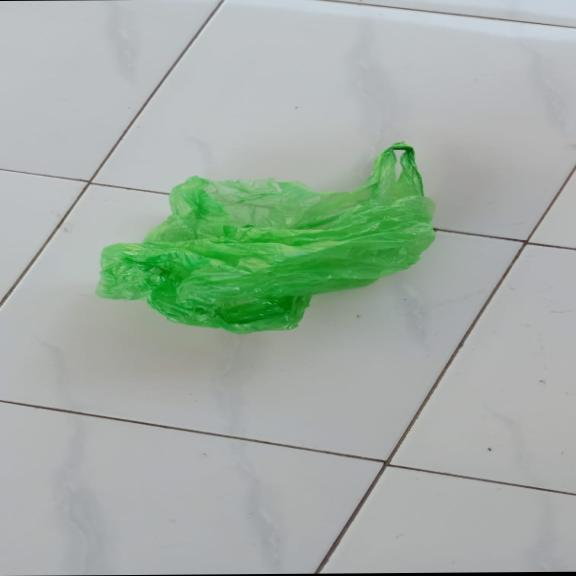Plastik: (93, 140, 439, 334)
